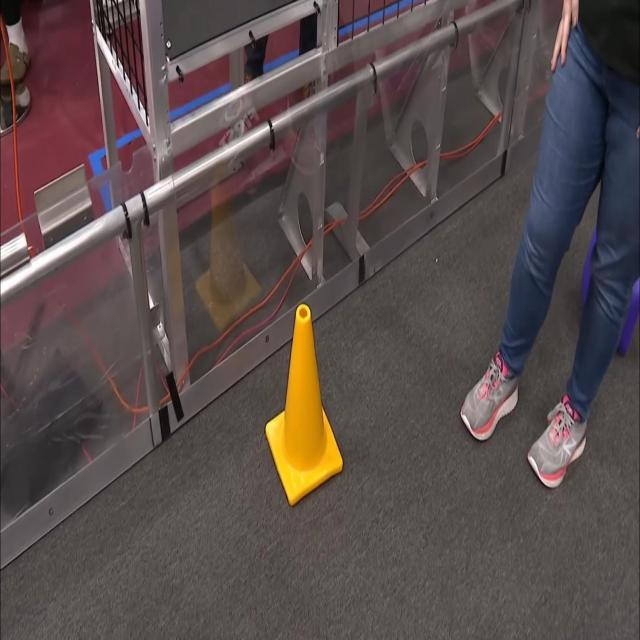frc_cone: (263, 304, 340, 505)
frc_cube: (584, 223, 638, 357)
